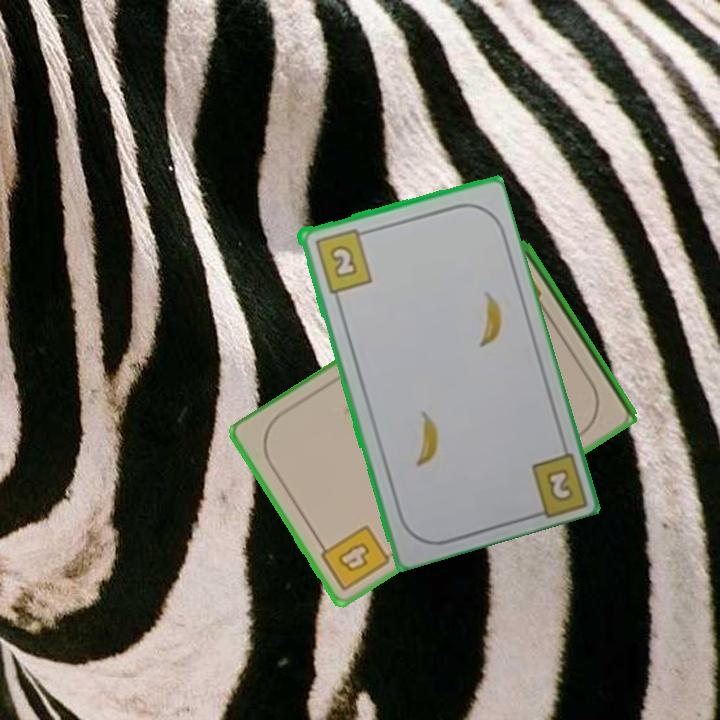2b: (311, 224, 375, 296), (542, 464, 577, 505)
4b: (313, 522, 393, 595)
